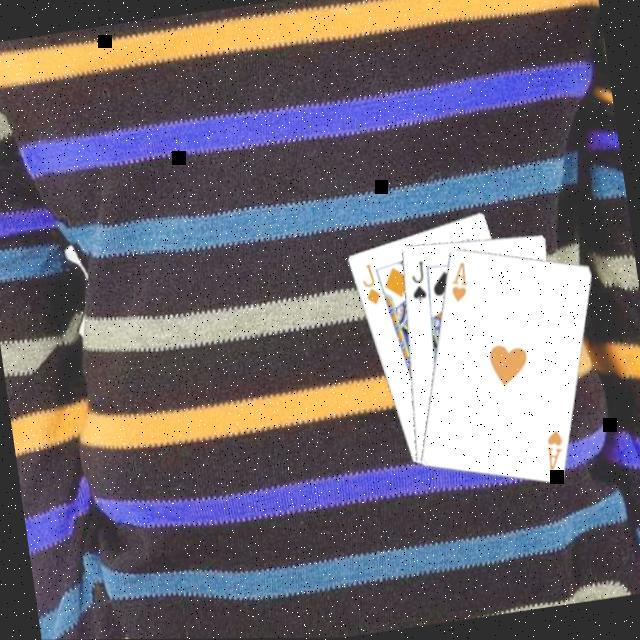AH: (542, 428, 571, 478), (446, 260, 475, 308)
JD: (358, 262, 386, 312)
JS: (406, 259, 434, 308)
